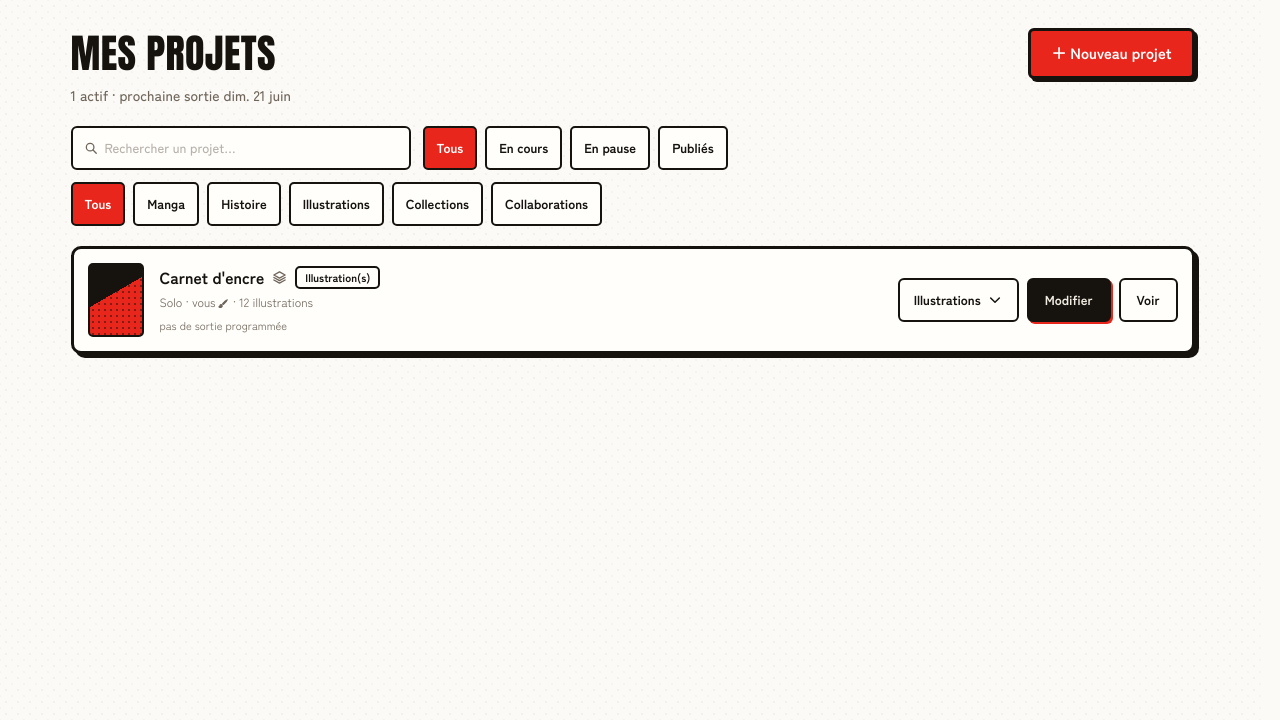
ProjetsClient (CS-12) › expands a collection card to lazy-fetch and list its members (links to /illustration/{id}); toggles aria-expanded; caches
Click the button with aria-label "voir les illustrations" at (958, 300), box x1=898 y1=278 x2=1019 y2=322
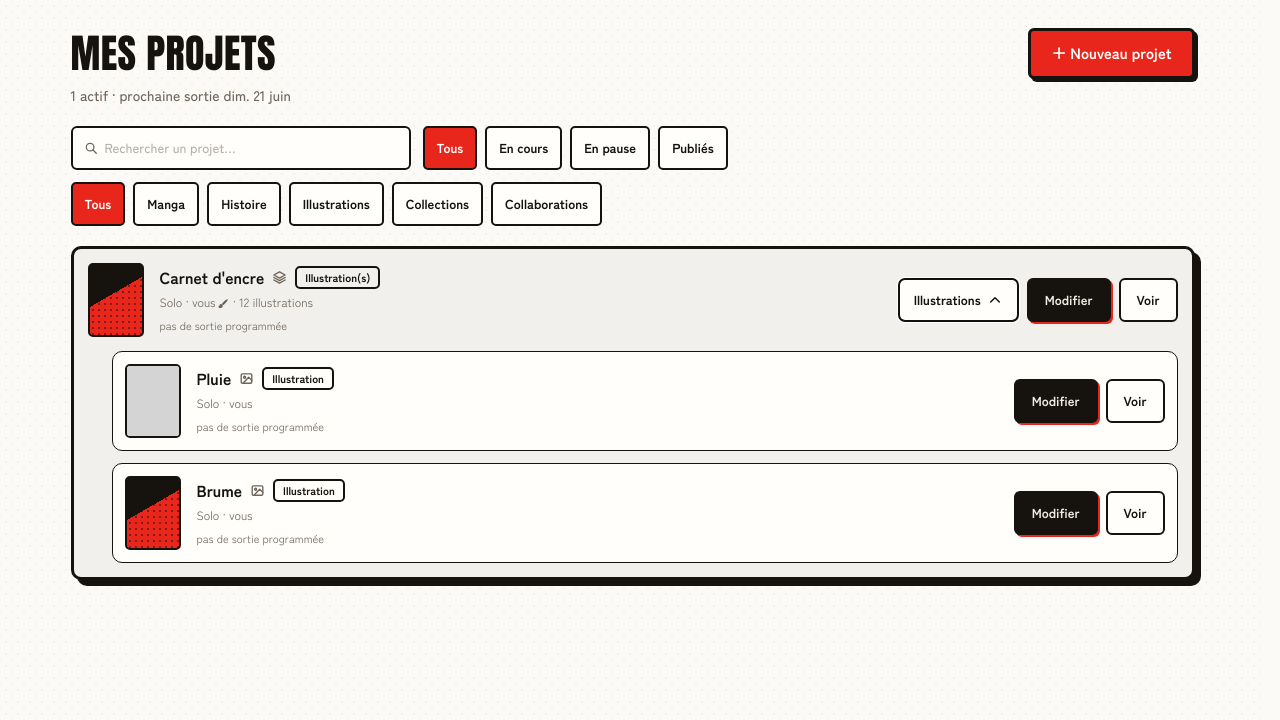
expect the button named "voir les illustrations" is expanded: met
expect the element with test id "kind-glyph-illustration" next to "Pluie" is shown: met, box x1=239 y1=371 x2=254 y2=386
expect the text "Illustration" next to "Pluie" is shown: met, box x1=272 y1=370 x2=324 y2=386
# Collapse then re-expand — no refetch (cached).
Click the button with aria-label "illustrations de Carnet" at (958, 300), box x1=898 y1=278 x2=1019 y2=322
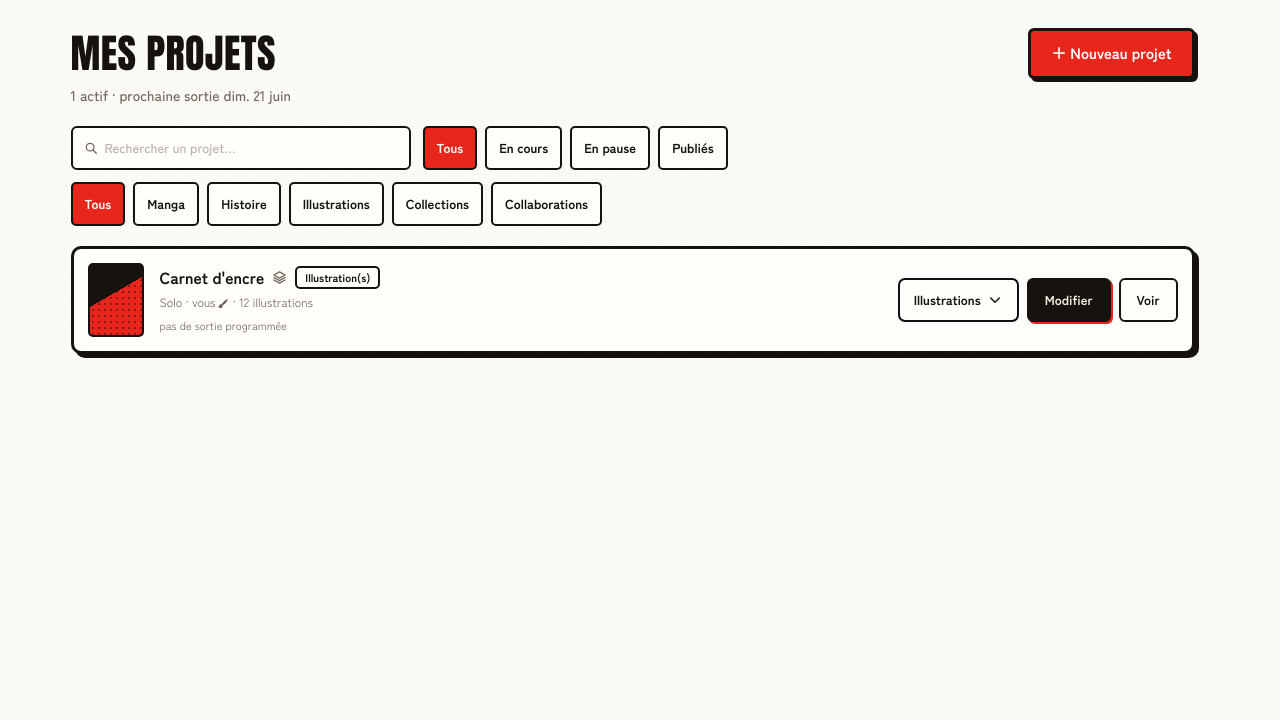
expect the button with aria-label "illustrations de Carnet" is collapsed: met
Click the button with aria-label "illustrations de Carnet" at (958, 300), box x1=898 y1=278 x2=1019 y2=322
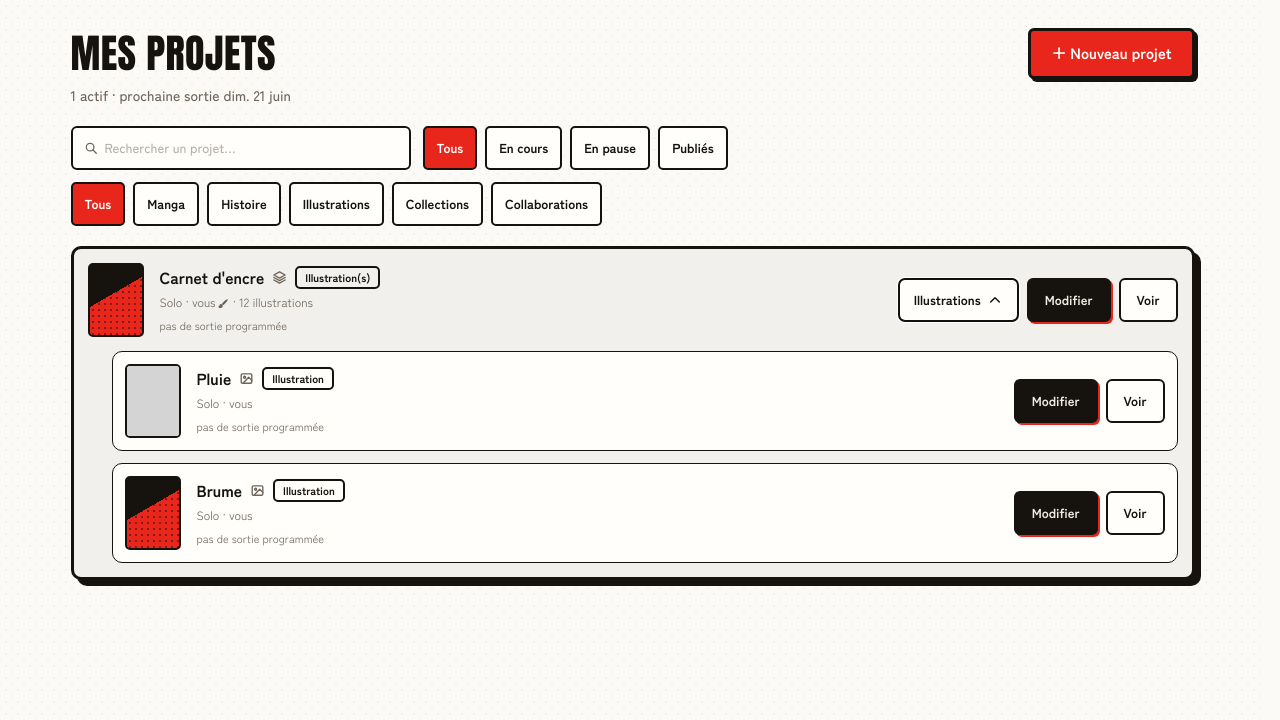
expect the button with aria-label "illustrations de Carnet" is expanded: met, box x1=898 y1=278 x2=1019 y2=322
